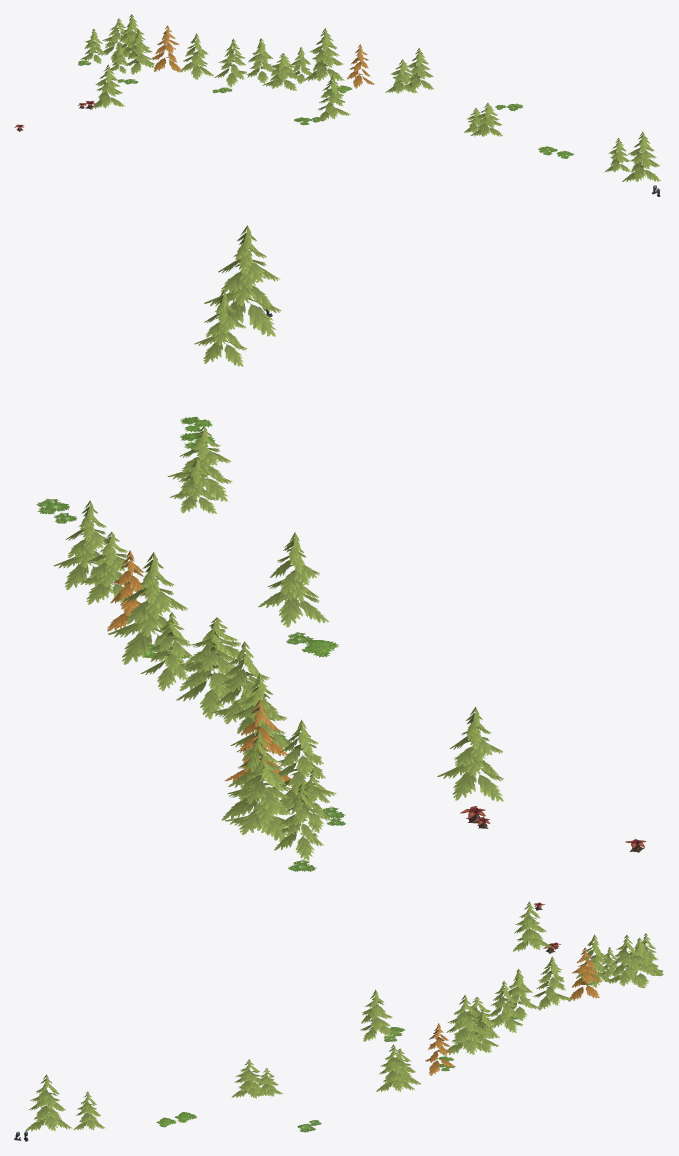
File: zhibei6_1.fbx
3 renders of one model, top to bottom at view 1: azimuth 30°, elevation 25°; view 2: azimuth 150°, elevation 25°; view 3: azimuth 270°, elevation 25°, orthographic. The views are drawn at different scales.
Parts seen in each view (by area): view 1: zhibei6_1; view 2: zhibei6_1; view 3: zhibei6_1.
Part boxes in pixels (<box>): zhibei6_1: <box>14,14,660,196</box>; zhibei6_1: <box>36,225,646,871</box>; zhibei6_1: <box>14,901,663,1141</box>.
Bounding box in the file's own units: 6331 × 822 × 7162.
